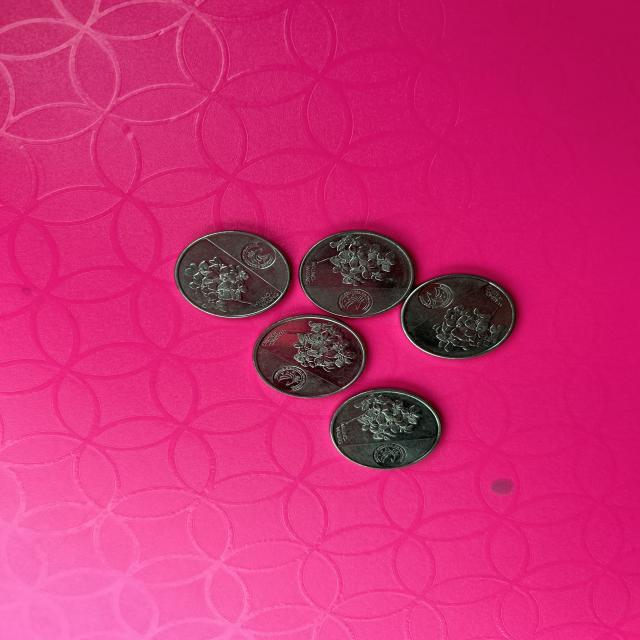1_New_Back: (172, 258, 252, 307), (278, 321, 359, 369), (326, 236, 396, 286), (434, 305, 504, 350), (346, 395, 421, 437)
